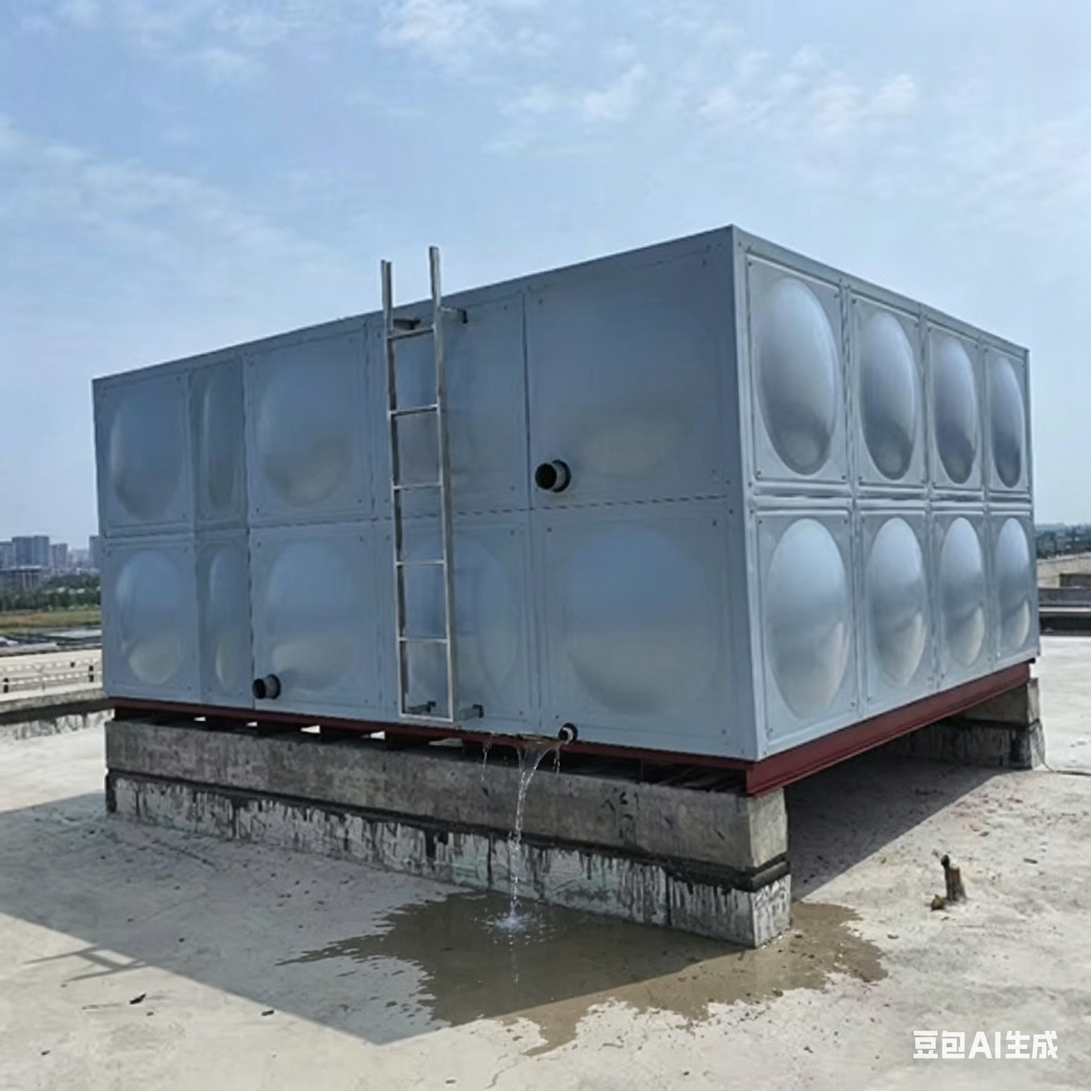Leakage: (485, 716, 580, 1033), (596, 921, 890, 1017), (367, 900, 481, 1019)
